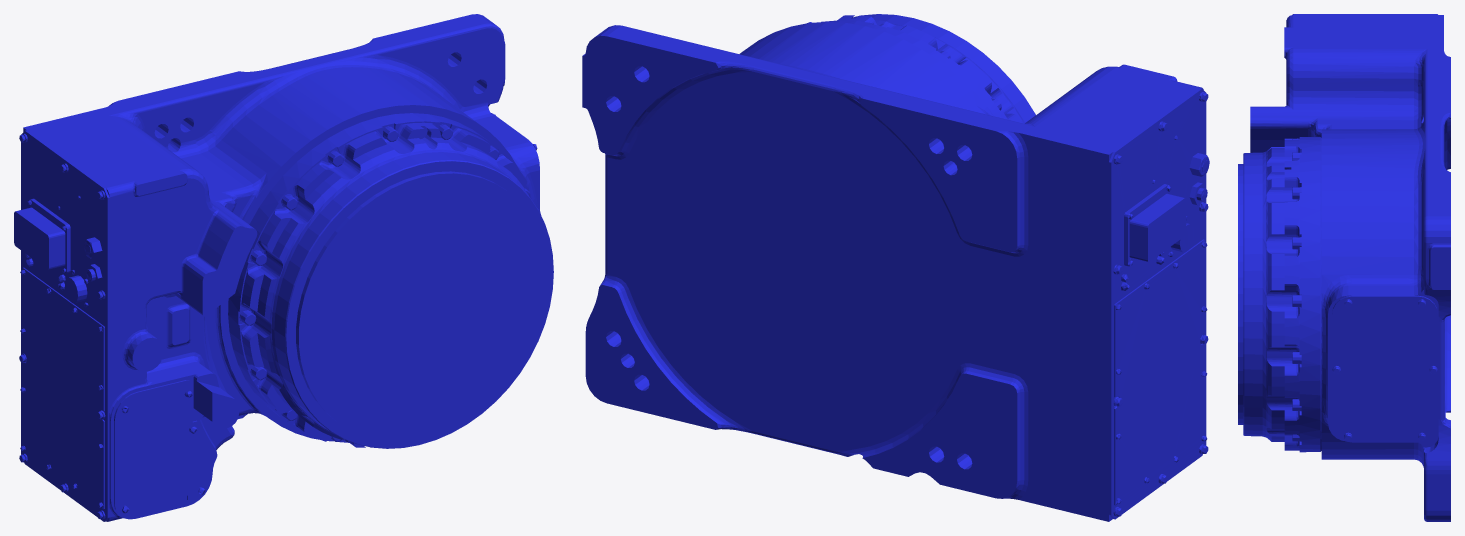
The model's file is BaseLink.glb.
The picture shows the model from 3 angles, left to right: view 1: azimuth 30°, elevation 25°; view 2: azimuth 150°, elevation 25°; view 3: azimuth 270°, elevation 25°; orthographic projection. The views are drawn at different scales.
Parts seen in each view (by area): view 1: /BaseLink/BaseLink_003-mesh/0; view 2: /BaseLink/BaseLink_003-mesh/0; view 3: /BaseLink/BaseLink_003-mesh/0.
Boxes of the visible parts, bbox=[...] form: /BaseLink/BaseLink_003-mesh/0: bbox=[14, 14, 553, 521]; /BaseLink/BaseLink_003-mesh/0: bbox=[582, 14, 1209, 521]; /BaseLink/BaseLink_003-mesh/0: bbox=[1238, 14, 1450, 521].
Size of the model in its own units: 0.7798 by 0.5 by 0.317.
